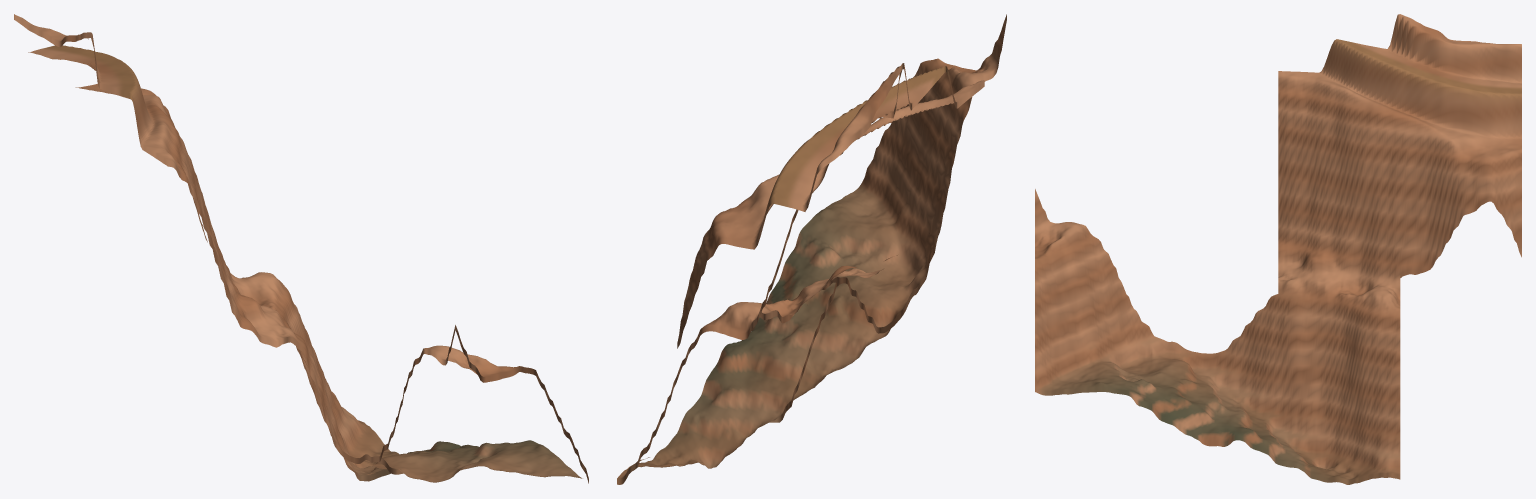
File: terrain-017.glb
3 views of the same model, side by side, from view 1: azimuth 30°, elevation 25°; view 2: azimuth 150°, elevation 25°; view 3: azimuth 270°, elevation 25° (orthographic). The views are drawn at different scales.
Parts seen in each view (by area): view 1: terrain-017; view 2: terrain-017; view 3: terrain-017.
Part boxes in pixels (x1=…): terrain-017: x1=14, y1=14, x2=588, y2=483; terrain-017: x1=617, y1=14, x2=1006, y2=484; terrain-017: x1=1035, y1=14, x2=1521, y2=484.
Size of the model in its own units: 192 by 323 by 384.
